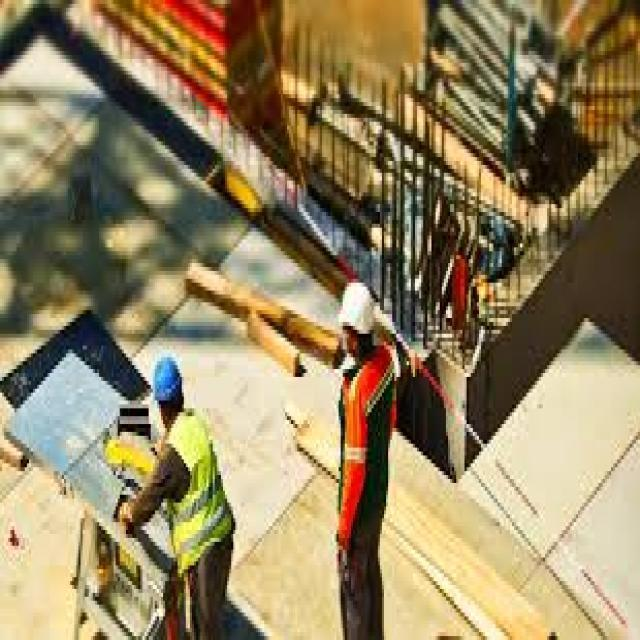Capacete: (338, 282, 375, 333), (153, 356, 181, 402)
Colete: (167, 411, 233, 574)
